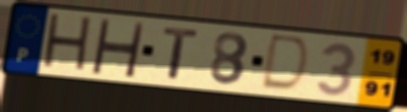3: (314, 40, 359, 99)
8: (208, 32, 249, 87)
D: (257, 32, 313, 96)
H: (88, 17, 148, 80), (39, 11, 95, 76)
T: (161, 26, 203, 82)
